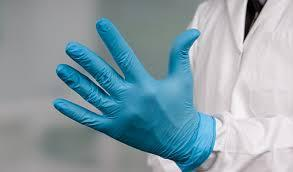Glove: (54, 19, 214, 171)
